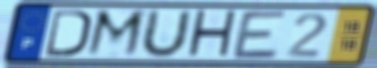2: (284, 11, 329, 59)
D: (43, 8, 93, 58)
E: (230, 9, 290, 61)
H: (184, 8, 240, 61)
M: (83, 7, 150, 59)
U: (136, 8, 194, 61)
